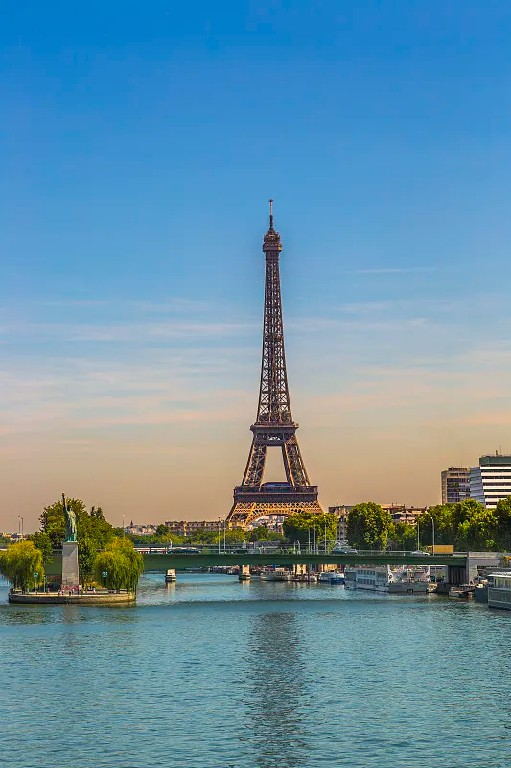Eiffel: (226, 198, 324, 537)
